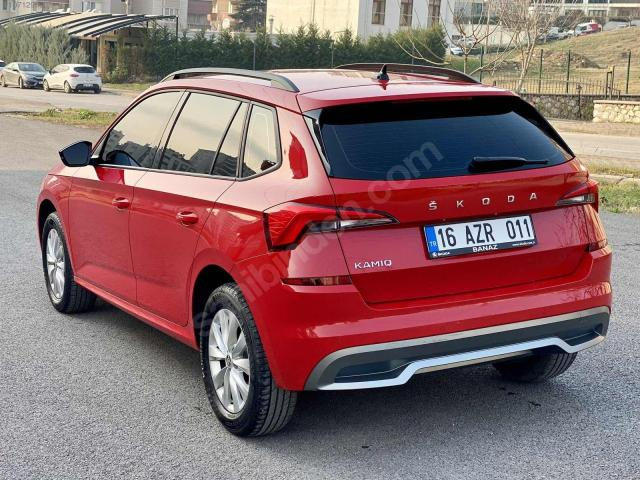plaka: (424, 214, 536, 258)
